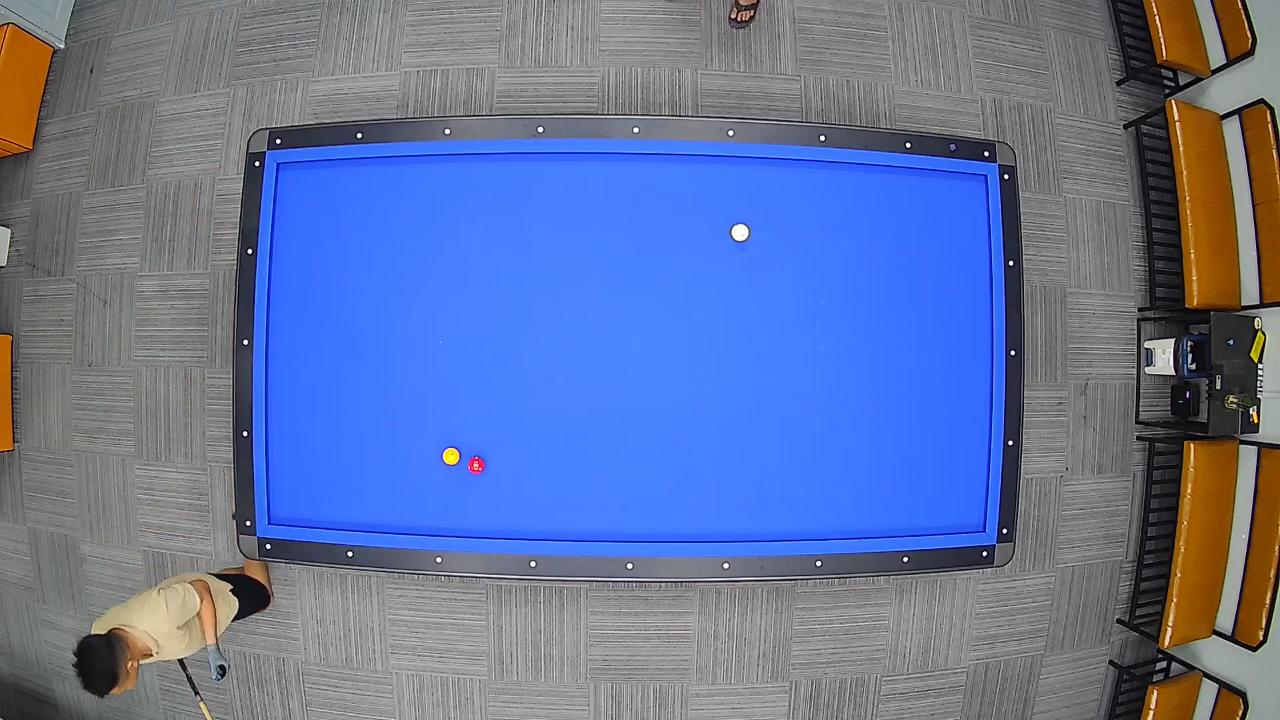Red: (466, 455, 486, 475)
White: (730, 222, 750, 243)
Yellow: (441, 446, 461, 466)
